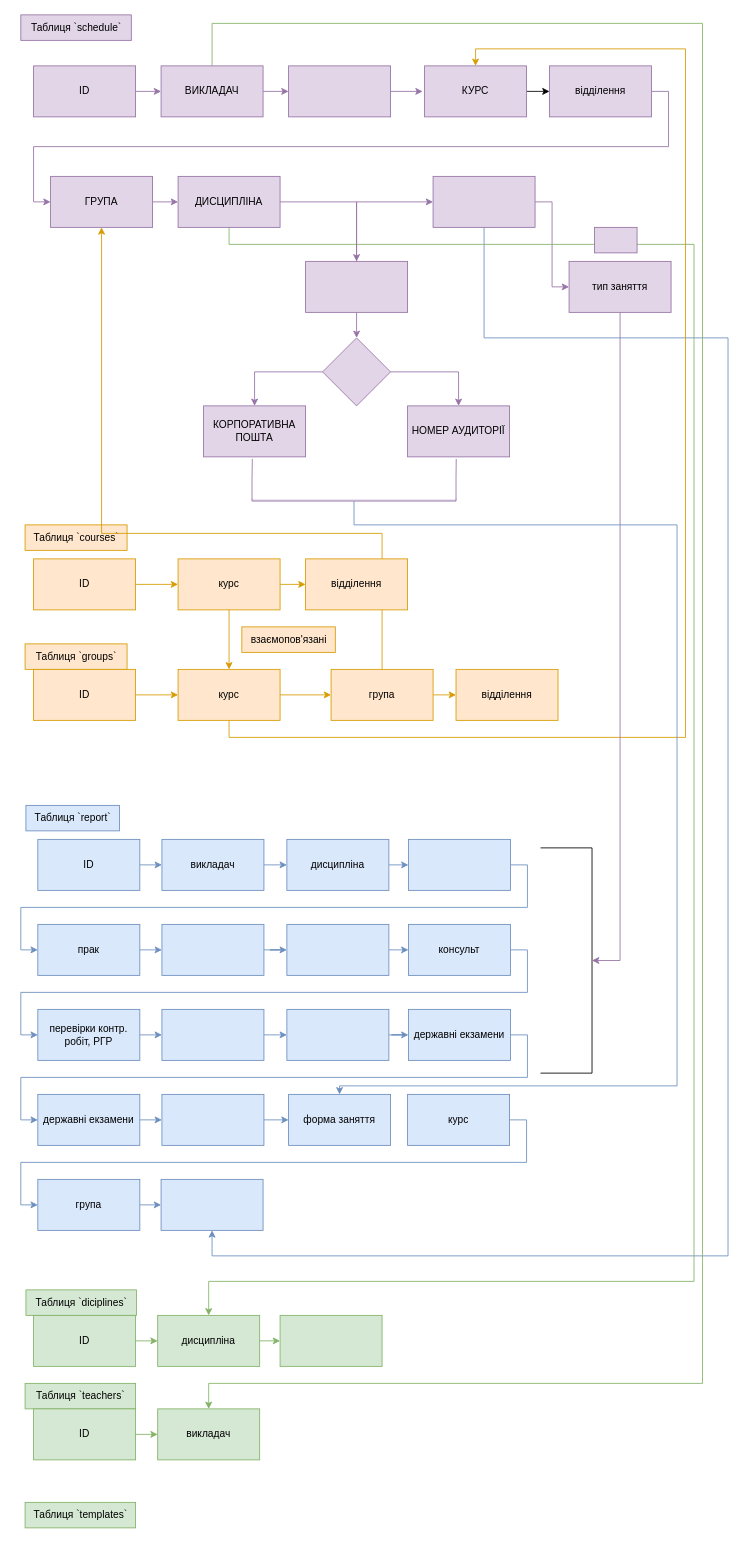
This 750x1543 diagram has some shape labels left out. Each missing label, with the centre of its shape:
"local" belongs at (615,240).
"викладачі" belongs at (330,1340).
"ДАТА" belongs at (483,201).
"дата проведення" belongs at (211,1204).
"екзам. консульт" belongs at (212,949).
"керівництво аспірантами" belongs at (212,1119).
"керівництво практикою" belongs at (337,1034).
"курсові" belongs at (212,1034).
"лаб. роб." belongs at (337,949).
"лек" belongs at (459,864).
"ОФФЛАЙН" belongs at (356,371).
"ПОРЯДОК ЗАНЯТТЯ" belongs at (339,91).
"ФОРМА ВИКЛАДАННЯ" belongs at (356,286).
